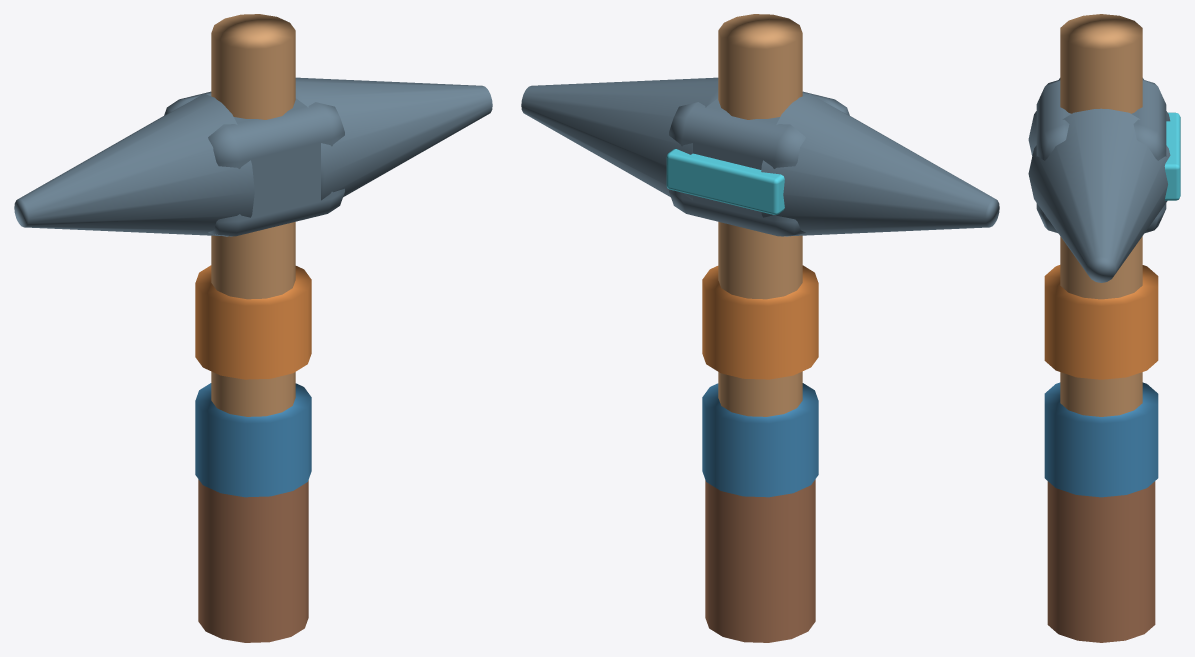
Rendered from pickaxe.glb.
The picture shows the model from 3 angles, left to right: view 1: azimuth 30°, elevation 25°; view 2: azimuth 150°, elevation 25°; view 3: azimuth 270°, elevation 25°; orthographic projection.
Parts seen in each view (by area): view 1: t09_harvest_pickaxe; view 2: t09_harvest_pickaxe; view 3: t09_harvest_pickaxe.
Boxes of the visible parts, x1=… form: t09_harvest_pickaxe: x1=14, y1=14, x2=492, y2=642; t09_harvest_pickaxe: x1=521, y1=14, x2=999, y2=642; t09_harvest_pickaxe: x1=1028, y1=14, x2=1180, y2=642.
Size of the model in its own units: 0.66 by 0.8 by 0.1875.
